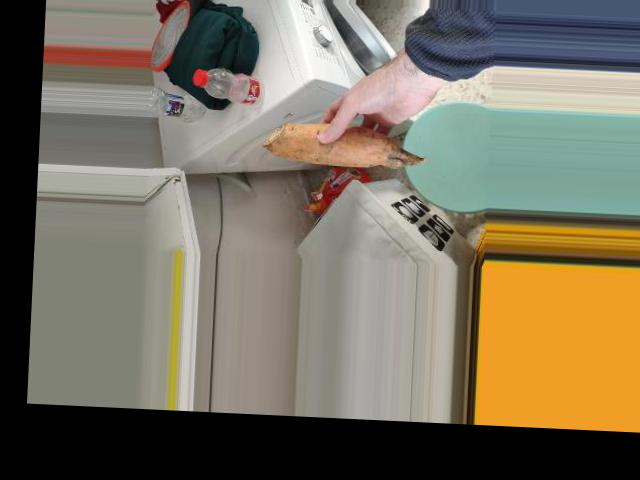sweet_potato: (273, 111, 429, 173)
